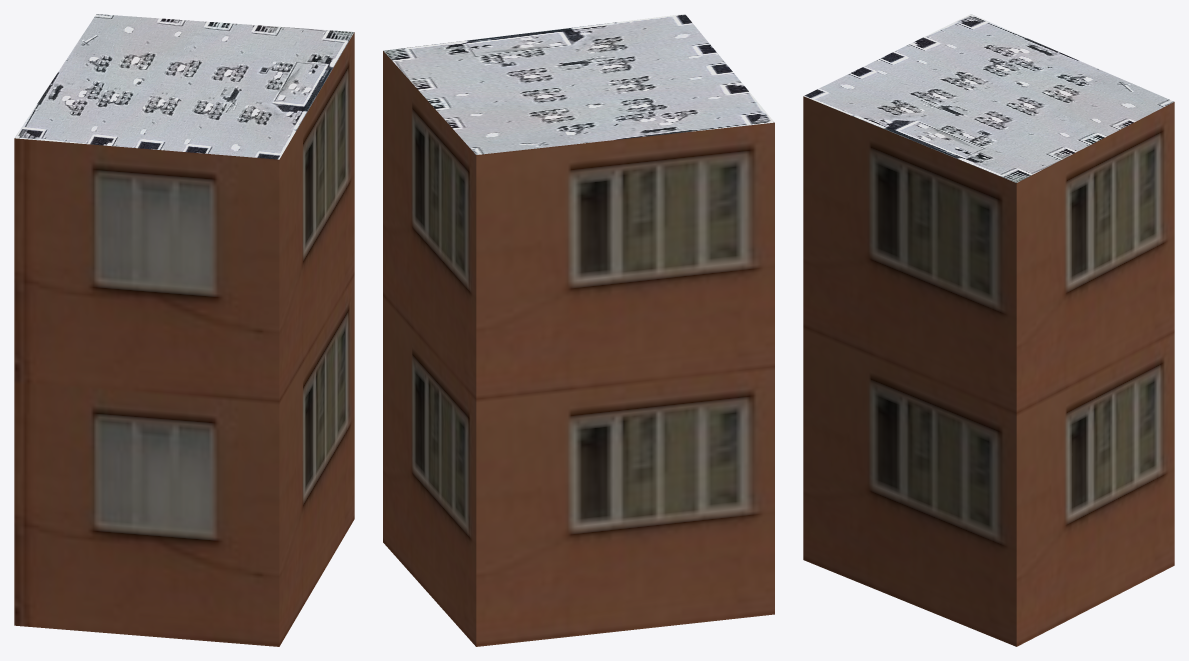
Rendered from ResTex__2500.fbx.
3 renders of one model, left to right at view 1: azimuth 30°, elevation 25°; view 2: azimuth 150°, elevation 25°; view 3: azimuth 270°, elevation 25°, orthographic. The views are drawn at different scales.
Visible parts, largest first — view 1: CityEngineMaterial_20_m, CityEngineMaterial_8_m; view 2: CityEngineMaterial_20_m, CityEngineMaterial_8_m; view 3: CityEngineMaterial_20_m, CityEngineMaterial_8_m.
Part boxes in pixels (x1,y1,x2,y2): CityEngineMaterial_20_m: [14, 32, 354, 646]; CityEngineMaterial_8_m: [15, 14, 354, 159]; CityEngineMaterial_20_m: [383, 51, 774, 646]; CityEngineMaterial_8_m: [383, 14, 774, 154]; CityEngineMaterial_20_m: [803, 96, 1174, 646]; CityEngineMaterial_8_m: [803, 14, 1173, 182].
Size of the model in its own units: 4.69 by 6 by 4.35.
Materials: 2 (2 with a texture image).
